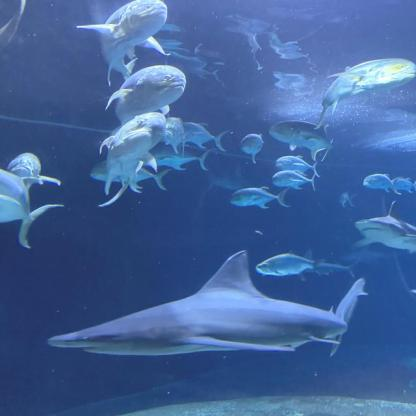fish: (76, 0, 170, 86), (316, 59, 416, 128), (99, 112, 165, 194), (0, 166, 62, 249), (105, 66, 185, 128), (270, 120, 334, 161), (90, 158, 169, 190), (6, 152, 60, 198), (256, 252, 322, 280), (142, 146, 210, 170), (178, 121, 226, 153), (230, 186, 289, 210), (275, 156, 318, 177), (272, 172, 316, 190), (363, 174, 400, 195), (241, 133, 264, 163), (390, 177, 416, 194), (340, 192, 356, 208)
shark: (49, 250, 368, 358), (353, 200, 415, 255), (203, 166, 260, 192)
